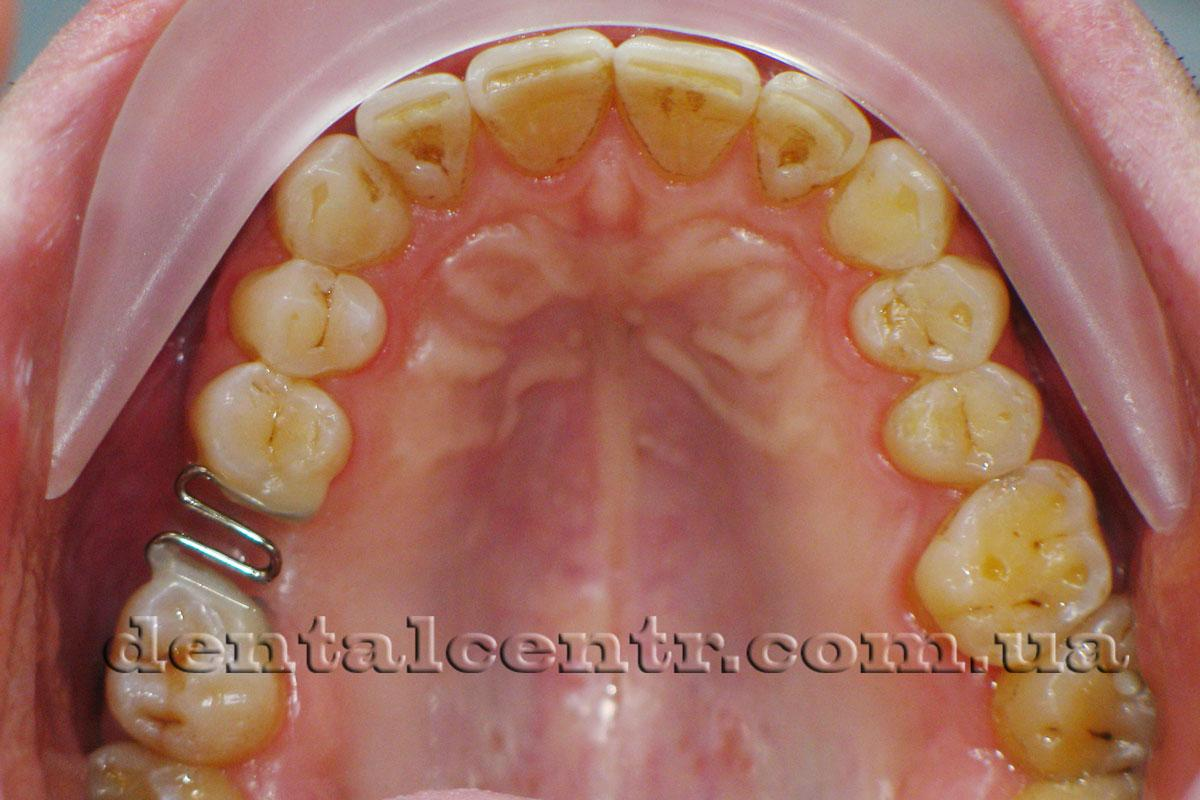UL1BC_decay: (850, 271, 1011, 370)
UL1M_decay: (919, 463, 1111, 623)
UL2BC_decay: (884, 367, 1047, 476)
ULCI_decay: (613, 37, 760, 168)
ULC_healthy: (832, 152, 950, 267)
ULLI_decay: (754, 75, 862, 201)
UR1BC_decay: (235, 264, 395, 376)
UR2BC_decay: (186, 370, 362, 509)
URCI_decay: (474, 39, 609, 166)
URC_decay: (275, 137, 411, 264)
URLI_decay: (358, 71, 471, 207)
